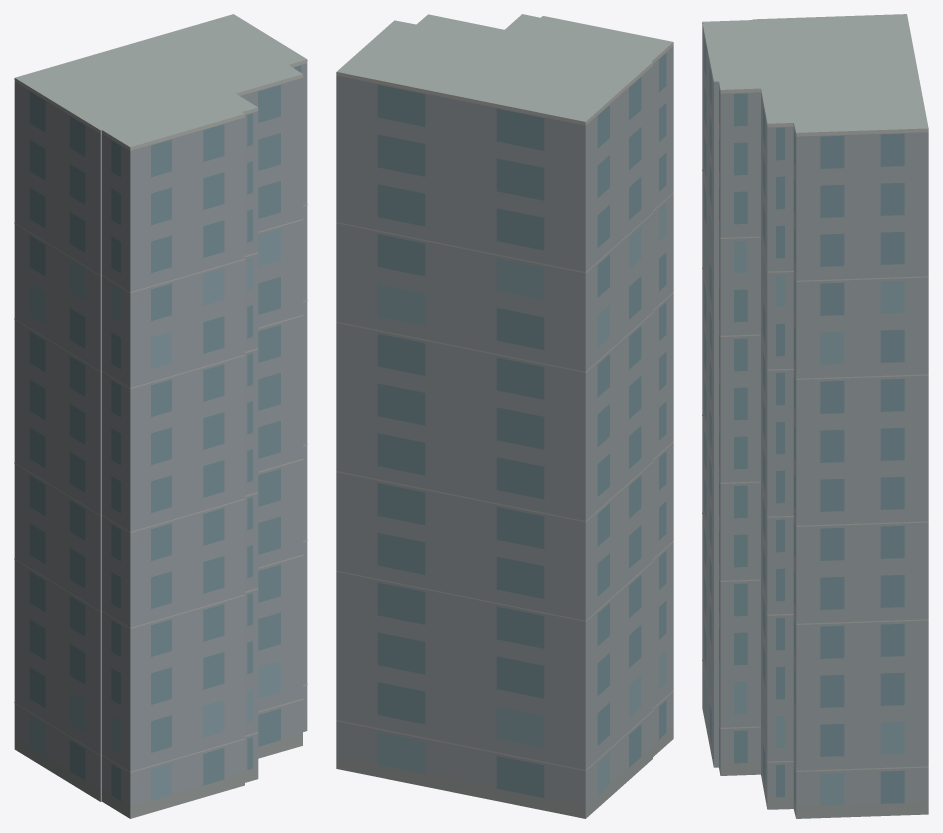
File: survey-upis-32488892.glb
3 renders of one model, left to right at view 1: azimuth 30°, elevation 25°; view 2: azimuth 150°, elevation 25°; view 3: azimuth 270°, elevation 25°, orthographic. The views are drawn at different scales.
Parts seen in each view (by area): view 1: survey-upis-32488892.tmp; view 2: survey-upis-32488892.tmp; view 3: survey-upis-32488892.tmp.
Part boxes in pixels (bbox=[...]): survey-upis-32488892.tmp: bbox=[14, 14, 307, 818]; survey-upis-32488892.tmp: bbox=[336, 14, 673, 818]; survey-upis-32488892.tmp: bbox=[702, 14, 928, 818].
Size of the model in its own units: 16.75 by 45 by 13.48.
